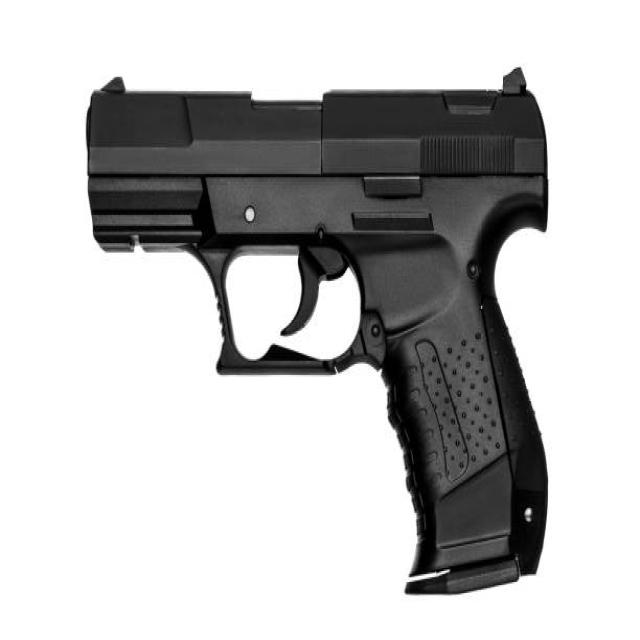pistol: (74, 61, 555, 603)
